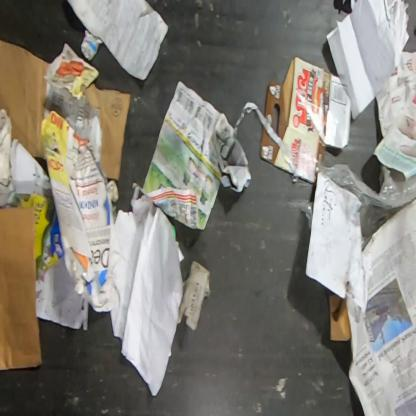cardboard: (0, 37, 133, 182), (264, 55, 352, 184), (0, 204, 44, 373), (258, 124, 294, 175), (327, 290, 351, 342)
soft_plastic: (310, 157, 415, 254), (299, 200, 315, 233)
